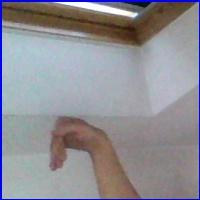del: (42, 112, 110, 178)
